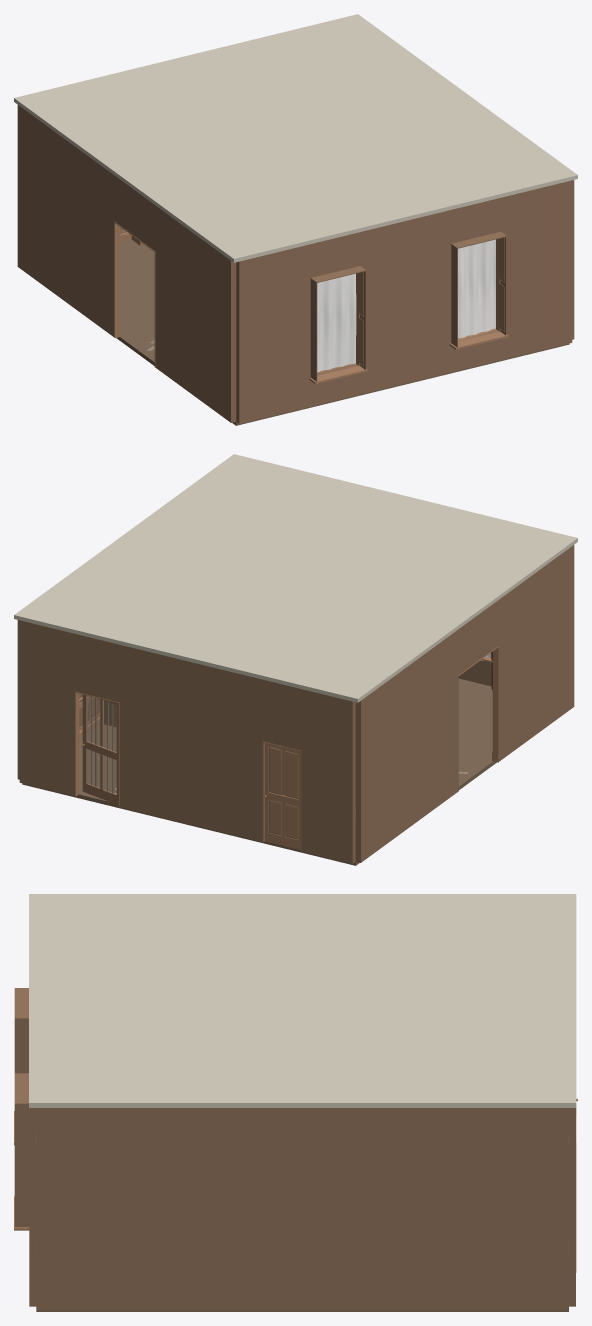
Rendered from living.glb.
3 renders of one model, top to bottom at view 1: azimuth 30°, elevation 25°; view 2: azimuth 150°, elevation 25°; view 3: azimuth 270°, elevation 25°, orthographic. The views are drawn at different scales.
Visible parts, largest first — view 1: ROOM__living; view 2: ROOM__living, LEAF__living_glass__0, LEAF__music__0; view 3: ROOM__living.
Boxes of the visible parts, x1=… form: ROOM__living: x1=14, y1=14, x2=577, y2=425; ROOM__living: x1=14, y1=454, x2=577, y2=865; LEAF__living_glass__0: x1=81, y1=694, x2=118, y2=805; LEAF__music__0: x1=264, y1=743, x2=300, y2=849; ROOM__living: x1=14, y1=894, x2=576, y2=1311.
Size of the model in its own units: 9.3 by 4.4 by 10.61.
